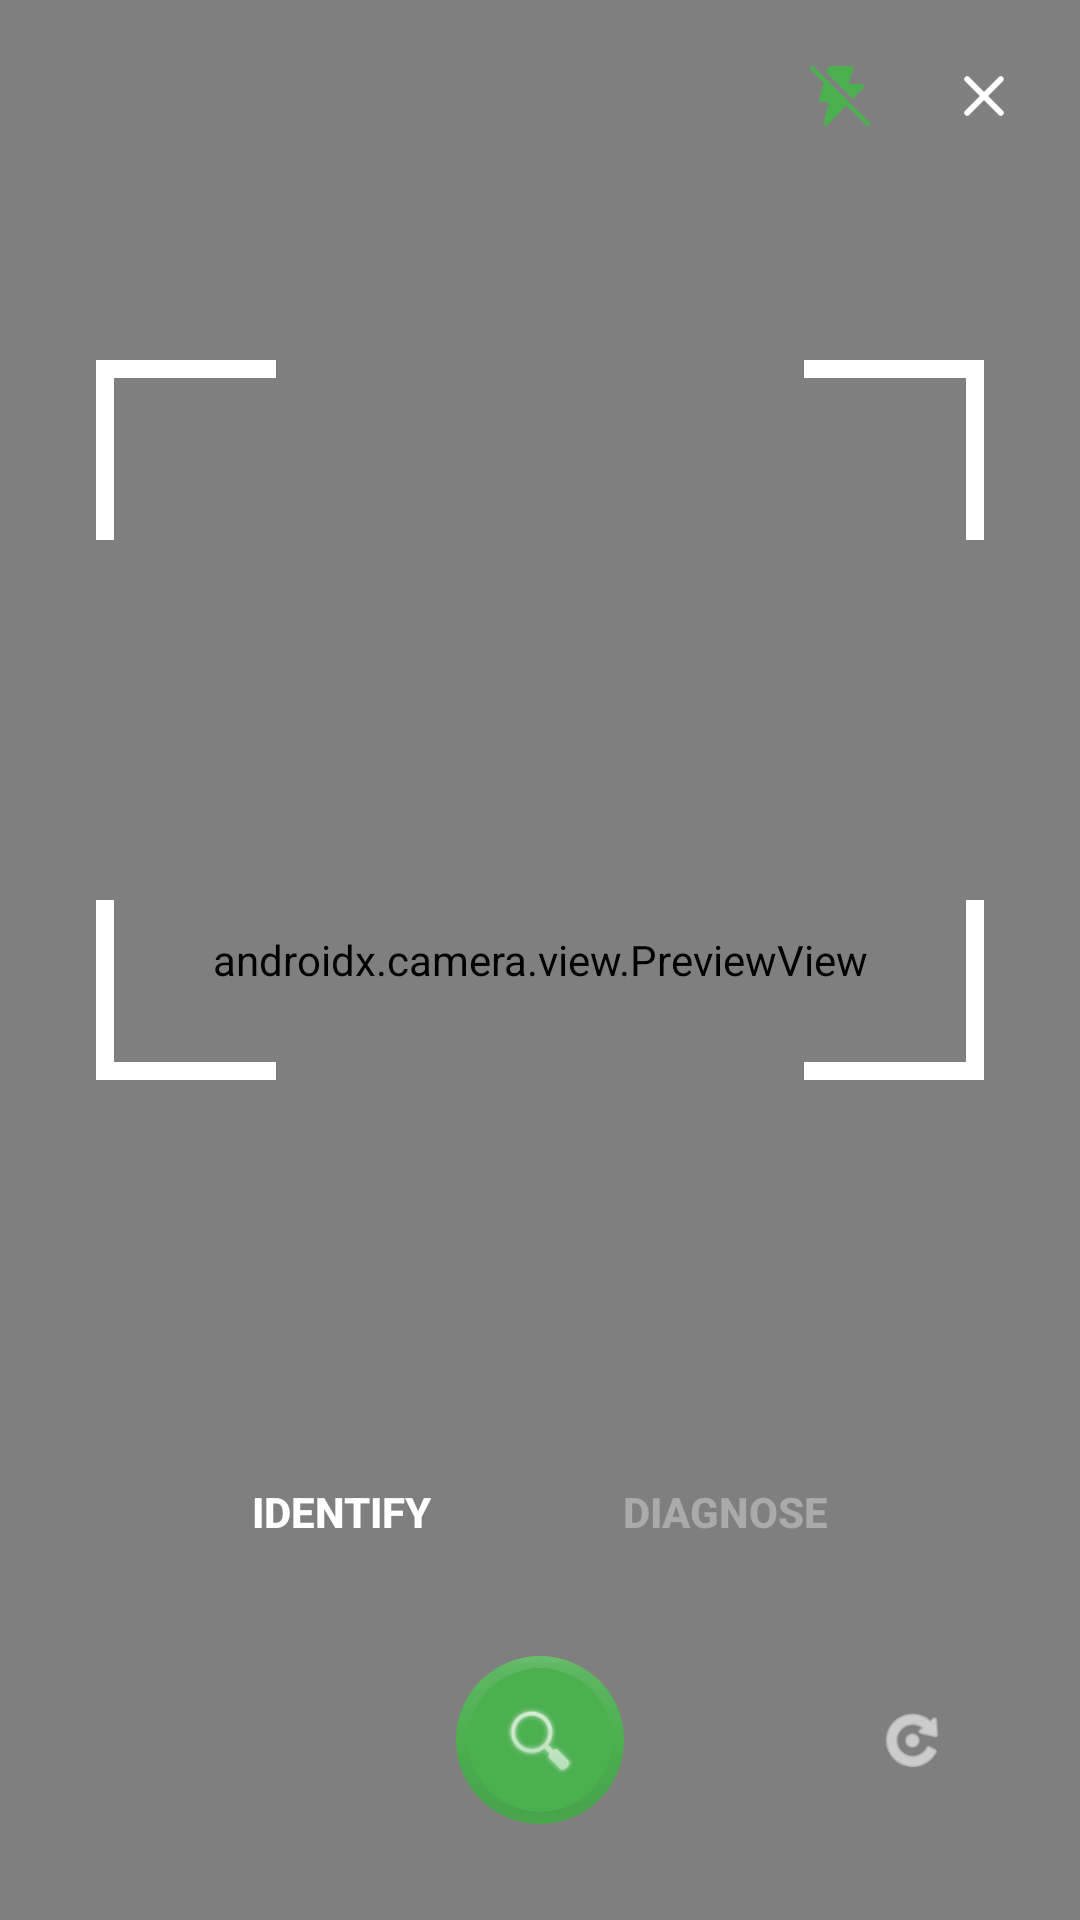

Icon bounding boxes for this 1080w x 1920h phone screenshot, format (x1, y1, x2, y2):
Bật/Tắt Flash: (810, 66, 870, 126)
Làm mới: (886, 1714, 938, 1767)
Đóng: (964, 76, 1004, 116)
